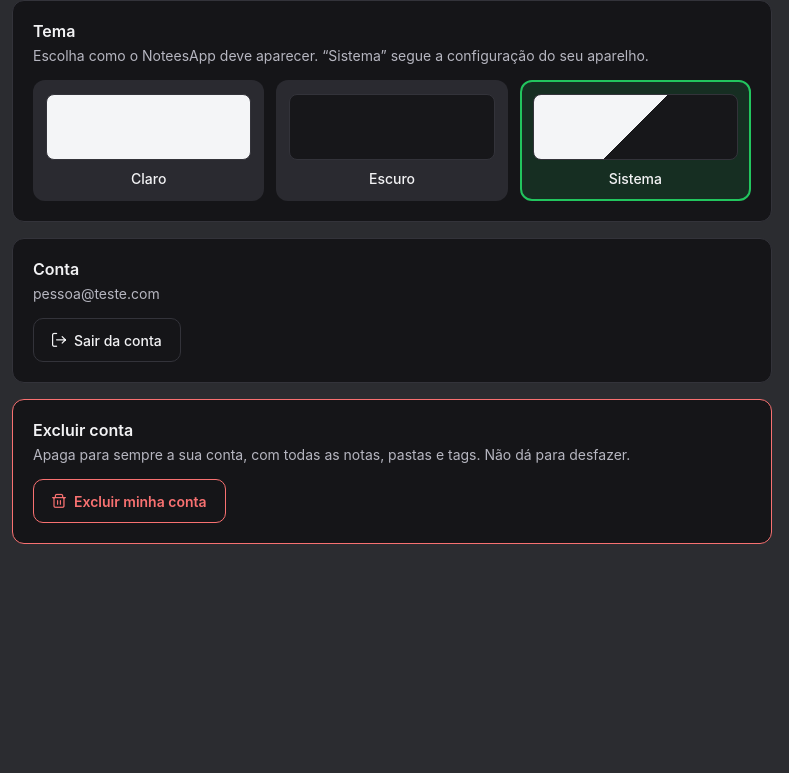
Test: SettingsView: excluir conta › without a connection it says so and keeps everything
Click the button with class "btn-delete-account" at (129, 501), box [33, 479, 226, 523]
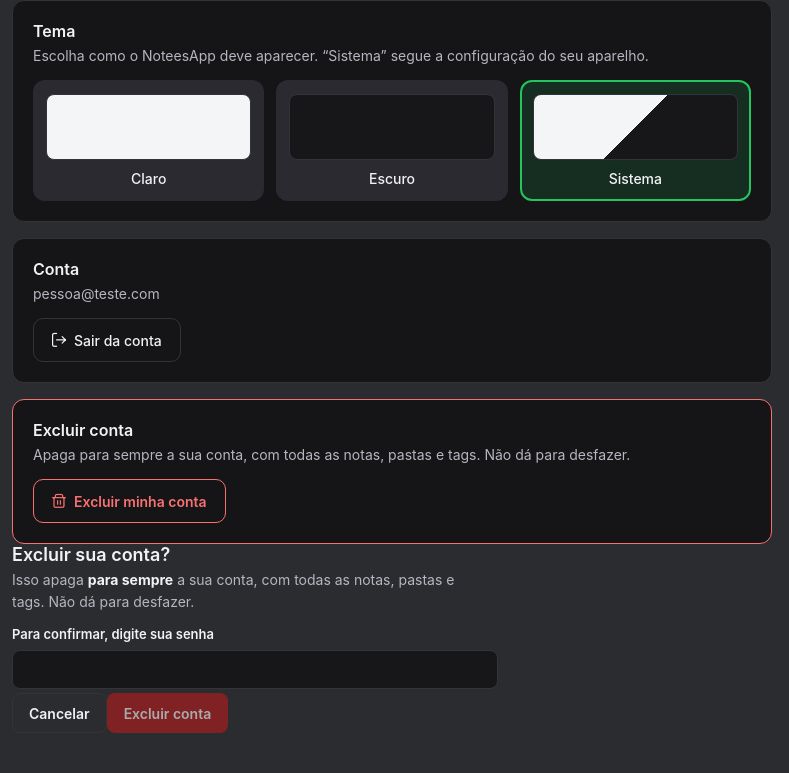
Type "senha-segura-123" into the password field with id "delete-account-password" at (255, 670), box [12, 650, 498, 689]
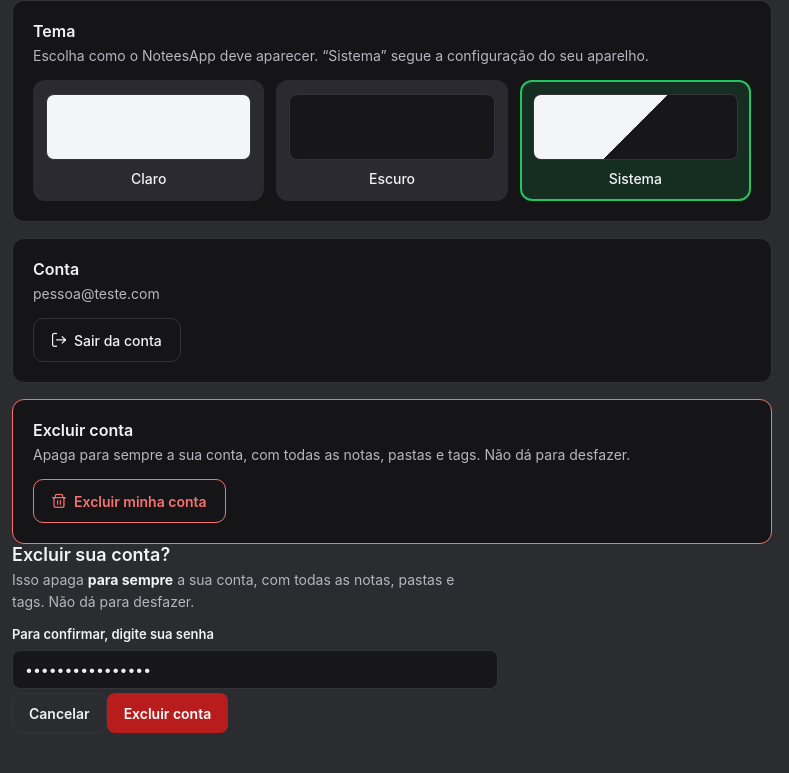
Submit the form, box [12, 565, 472, 693]
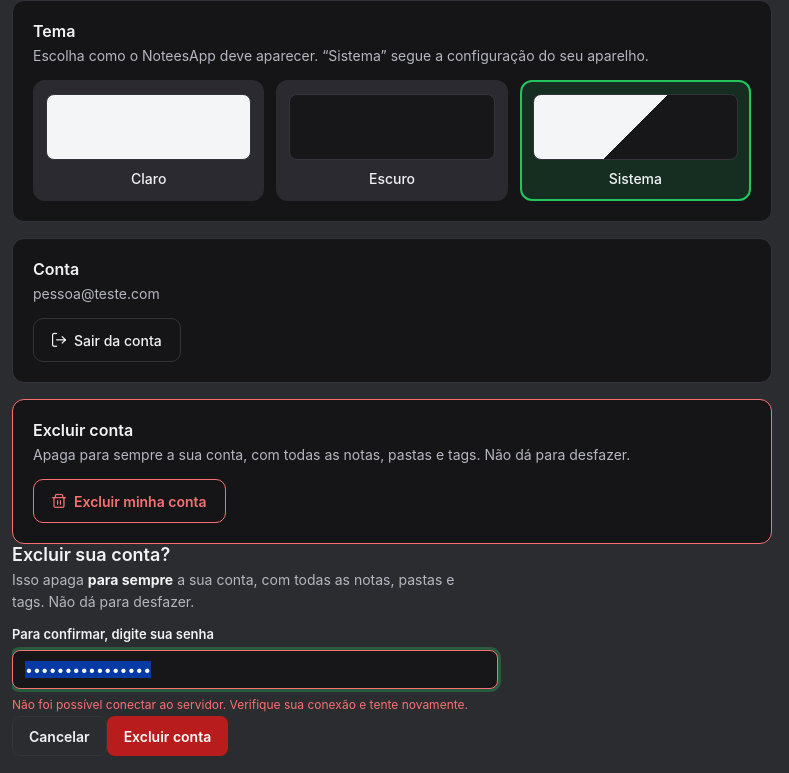
Result: the message shows "Não foi possível conectar" at [12, 697, 468, 712]
